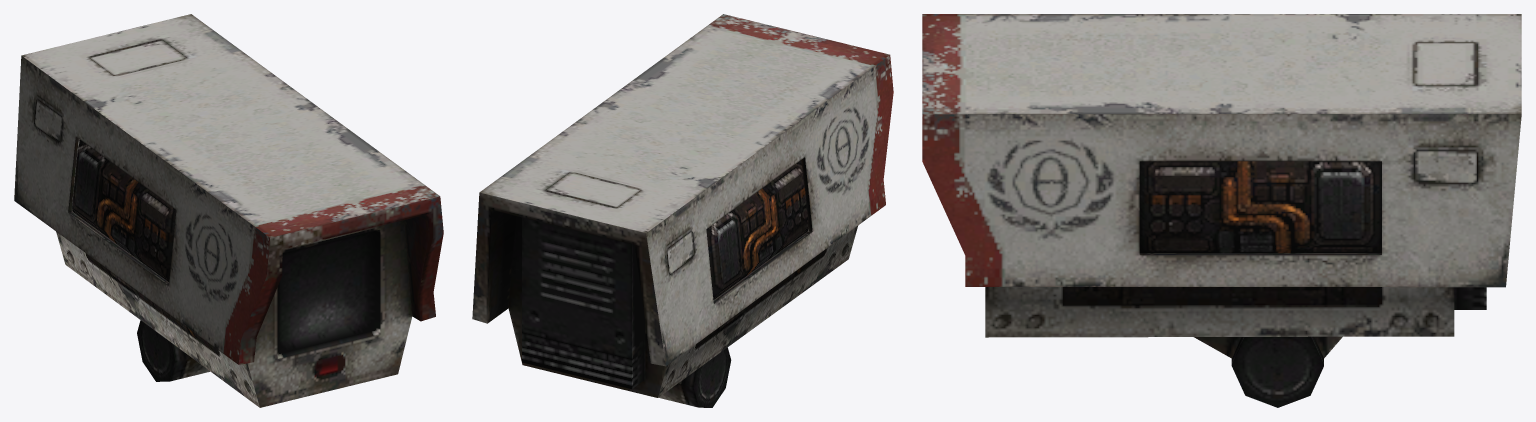
Rendered from camera_surveillance_theta.dae.
The picture shows the model from 3 angles, left to right: view 1: azimuth 30°, elevation 25°; view 2: azimuth 150°, elevation 25°; view 3: azimuth 270°, elevation 25°; orthographic projection. The views are drawn at different scales.
Visible parts, largest first — view 1: node_camera_flesher_camera; view 2: node_camera_flesher_camera; view 3: node_camera_flesher_camera.
Boxes of the visible parts, x1,y1,x2,y2 form: node_camera_flesher_camera: (14,14,443,407); node_camera_flesher_camera: (472,14,893,407); node_camera_flesher_camera: (922,14,1521,407).
Size of the model in its own units: 0.1847 by 0.2328 by 0.4032.
